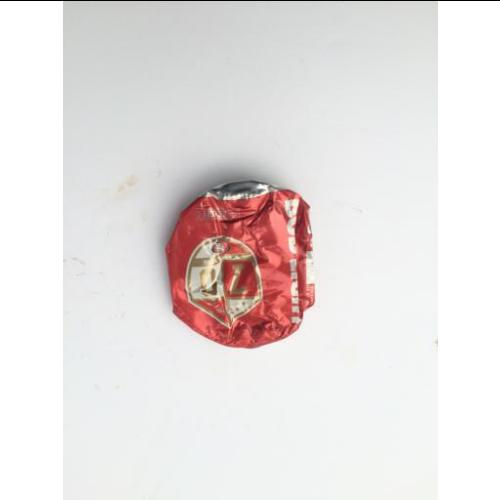metal: (174, 186, 309, 347)
